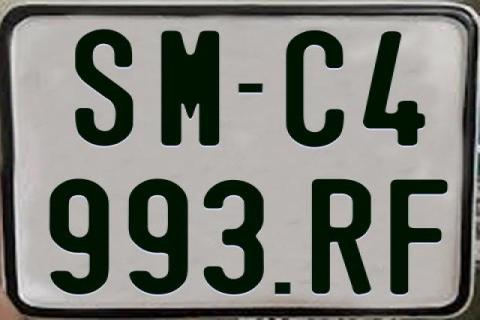0: (361, 29, 429, 147), (125, 177, 189, 297), (201, 177, 265, 297), (48, 177, 109, 297)
C: (284, 31, 343, 147)
F: (390, 177, 449, 292)
M: (161, 28, 219, 148)
R: (311, 177, 370, 293)
S: (75, 29, 139, 151)
